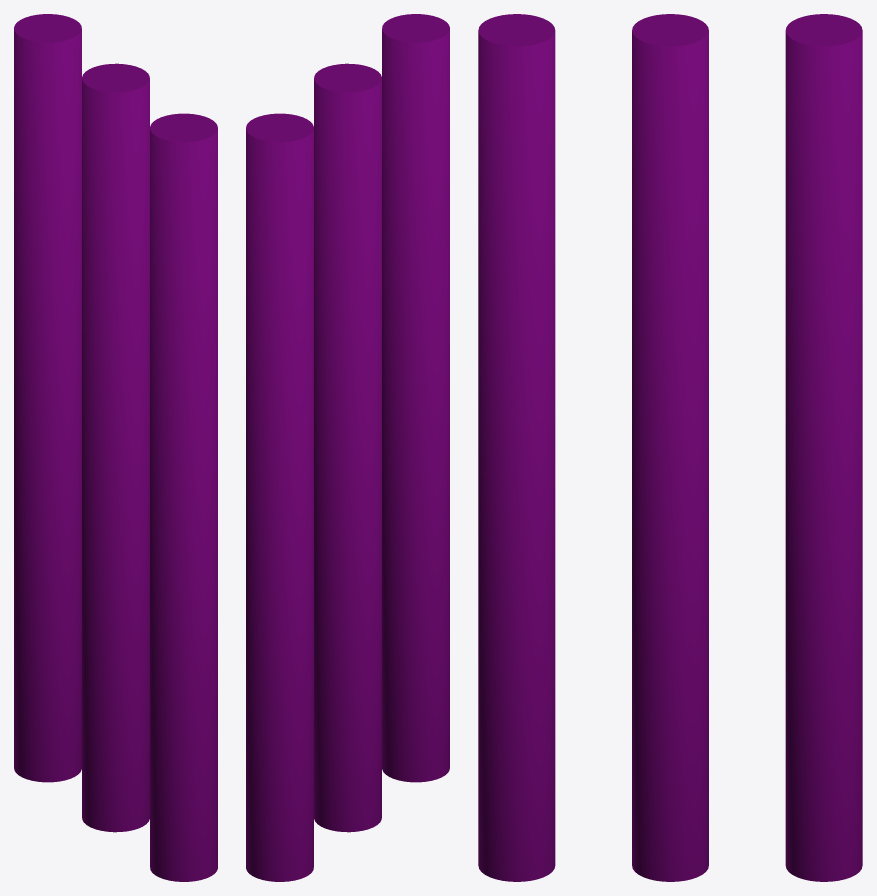
File: columns.dae
3 renders of one model, left to right at view 1: azimuth 30°, elevation 25°; view 2: azimuth 150°, elevation 25°; view 3: azimuth 270°, elevation 25°, orthographic. The views are drawn at different scales.
Visible parts, largest first — view 1: Cylinder; view 2: Cylinder; view 3: Cylinder.
Part boxes in pixels (left/top/right/bottom): Cylinder: left=14, top=14, right=217, bottom=881; Cylinder: left=246, top=14, right=449, bottom=881; Cylinder: left=478, top=14, right=862, bottom=881.
Bounding box in the file's own units: 0.5 × 2.5 × 6.
